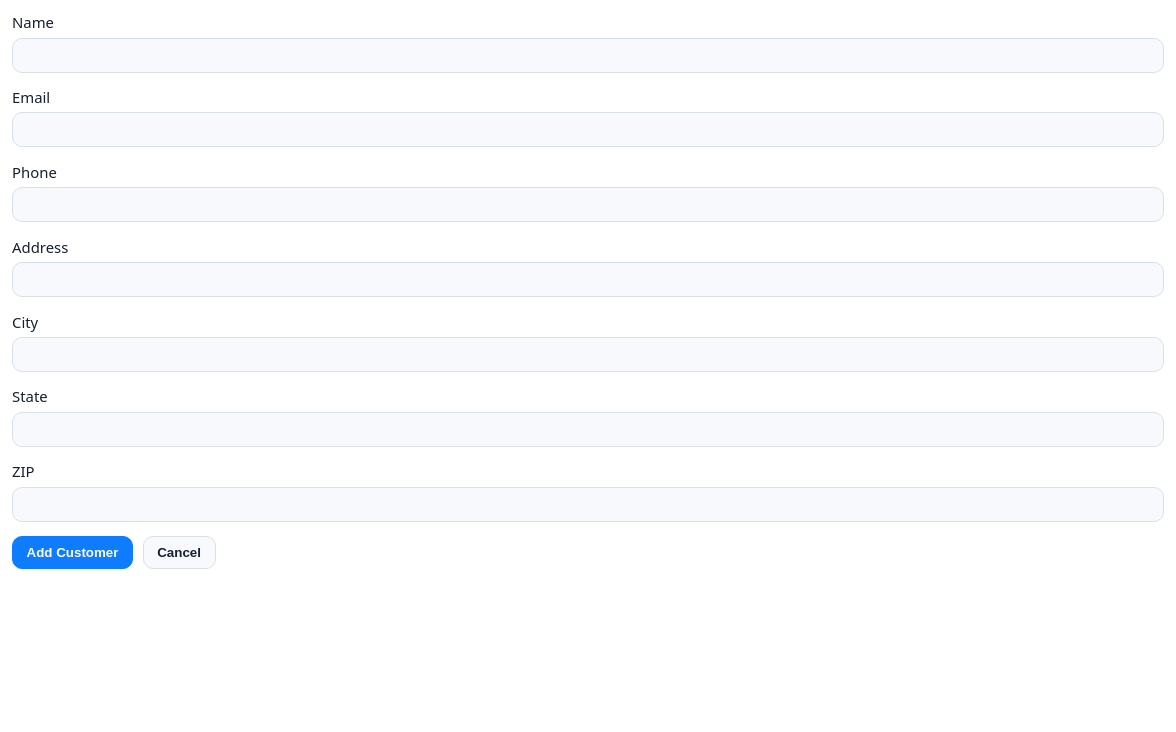
Test: CustomerForm › shows validation errors when submitting an empty form
This screenshot has width=1176, height=732.
Click the button "Add Customer": point(72, 553) [12, 536, 133, 569]
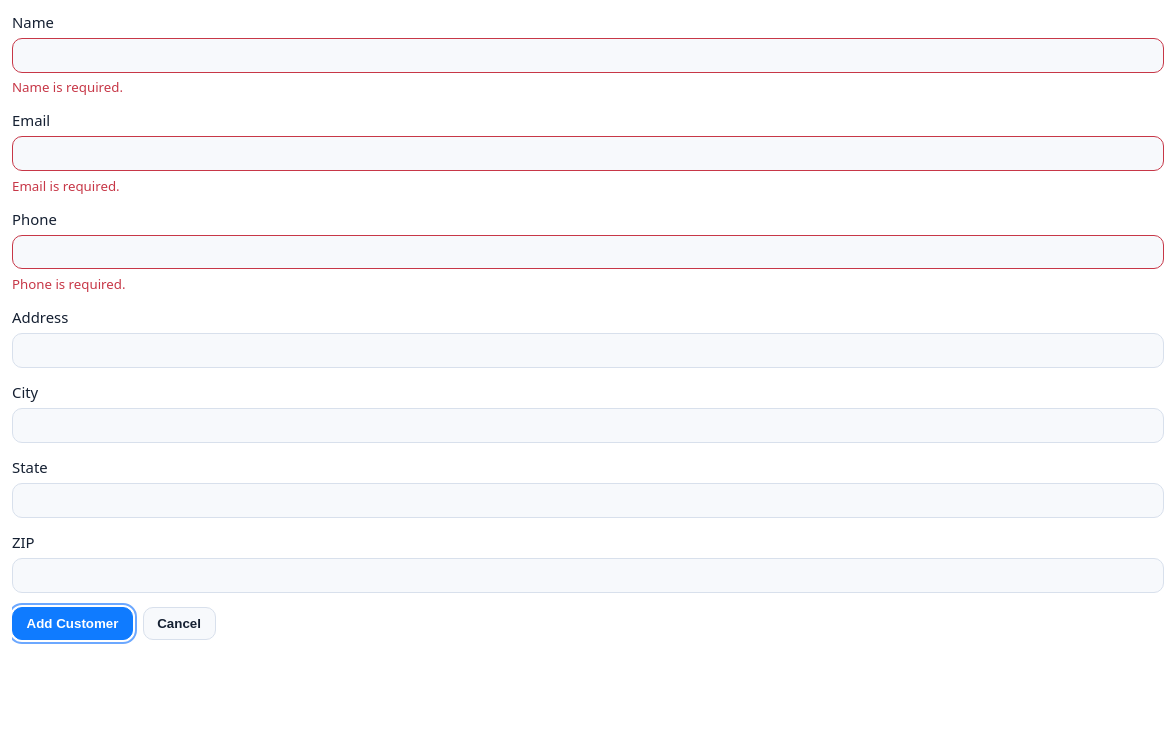
Expected: the text "Name is required." is shown, [12, 78, 123, 96]
Expected: the text "Email is required." is shown, [12, 177, 120, 195]
Expected: the text "Phone is required." is shown, [12, 275, 126, 293]
